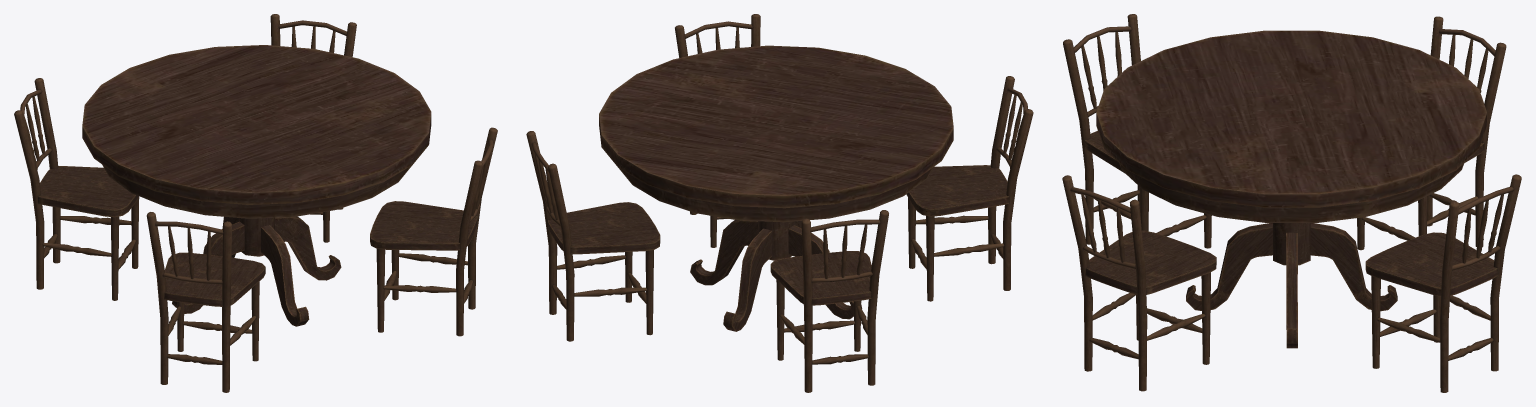
Rendered from Table.glb.
The picture shows the model from 3 angles, left to right: view 1: azimuth 30°, elevation 25°; view 2: azimuth 150°, elevation 25°; view 3: azimuth 270°, elevation 25°; orthographic projection. The views are drawn at different scales.
Visible parts, largest first — view 1: Table_Table_0, Chair03_Chair_0; view 2: Table_Table_0, Chair03_Chair_0; view 3: Table_Table_0, Chair03_Chair_0.
Part boxes in pixels (<box>): Table_Table_0: <box>82,45,431,326</box>; Chair03_Chair_0: <box>14,14,497,392</box>; Table_Table_0: <box>599,45,953,331</box>; Chair03_Chair_0: <box>526,14,1033,392</box>; Table_Table_0: <box>1096,30,1486,348</box>; Chair03_Chair_0: <box>1062,14,1521,392</box>.
Bounding box in the file's own units: 1.66 × 0.7981 × 1.68.
Materials: 2 (2 with a texture image).
